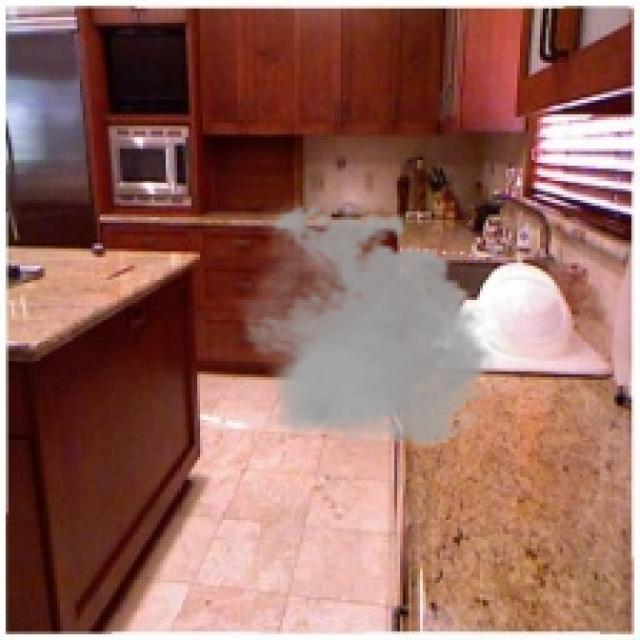Smoke: (228, 197, 506, 457)
